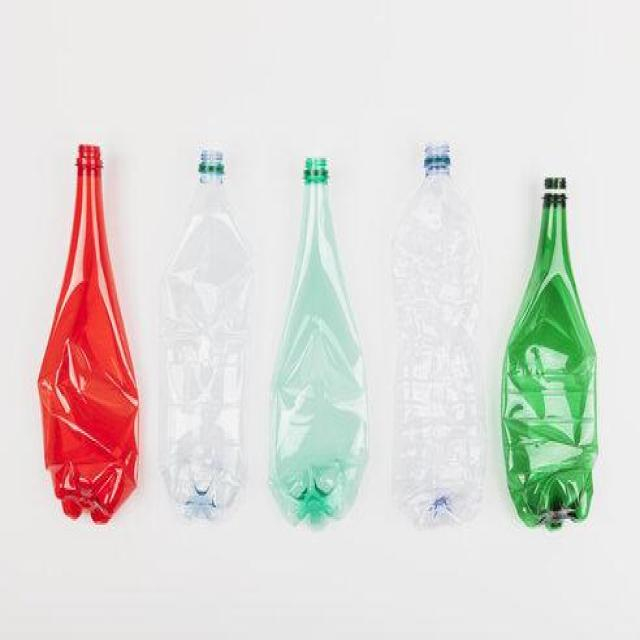bottle: (392, 90, 499, 534), (264, 105, 372, 531), (36, 107, 142, 538), (148, 108, 255, 534), (499, 172, 603, 534)
